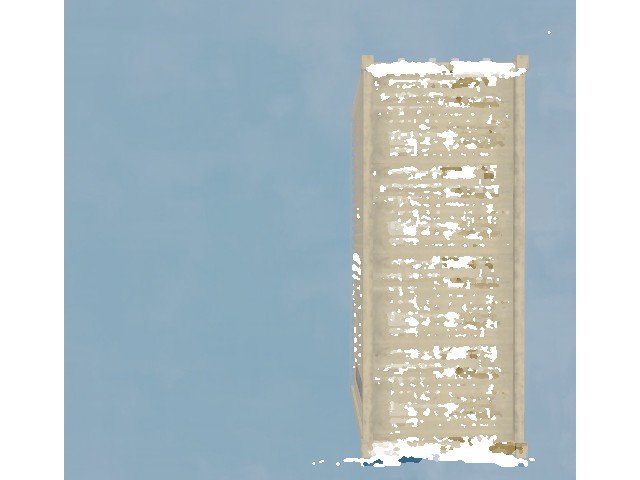container3: (354, 49, 535, 463)
